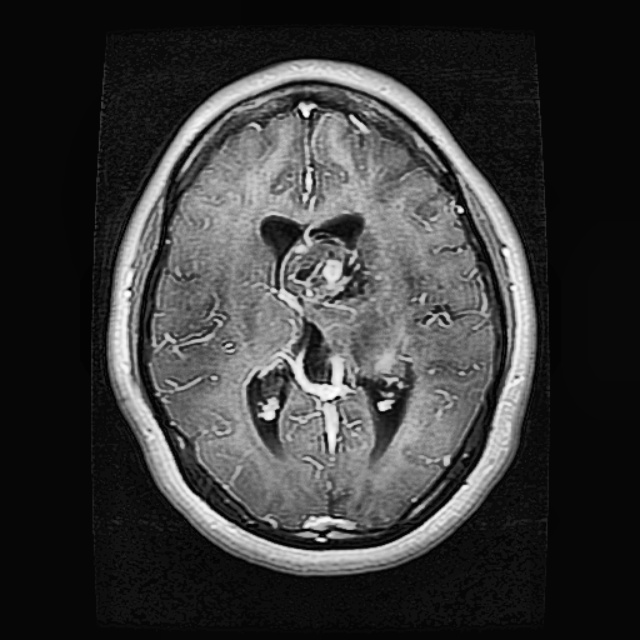Glioma: (277, 232, 409, 382)
